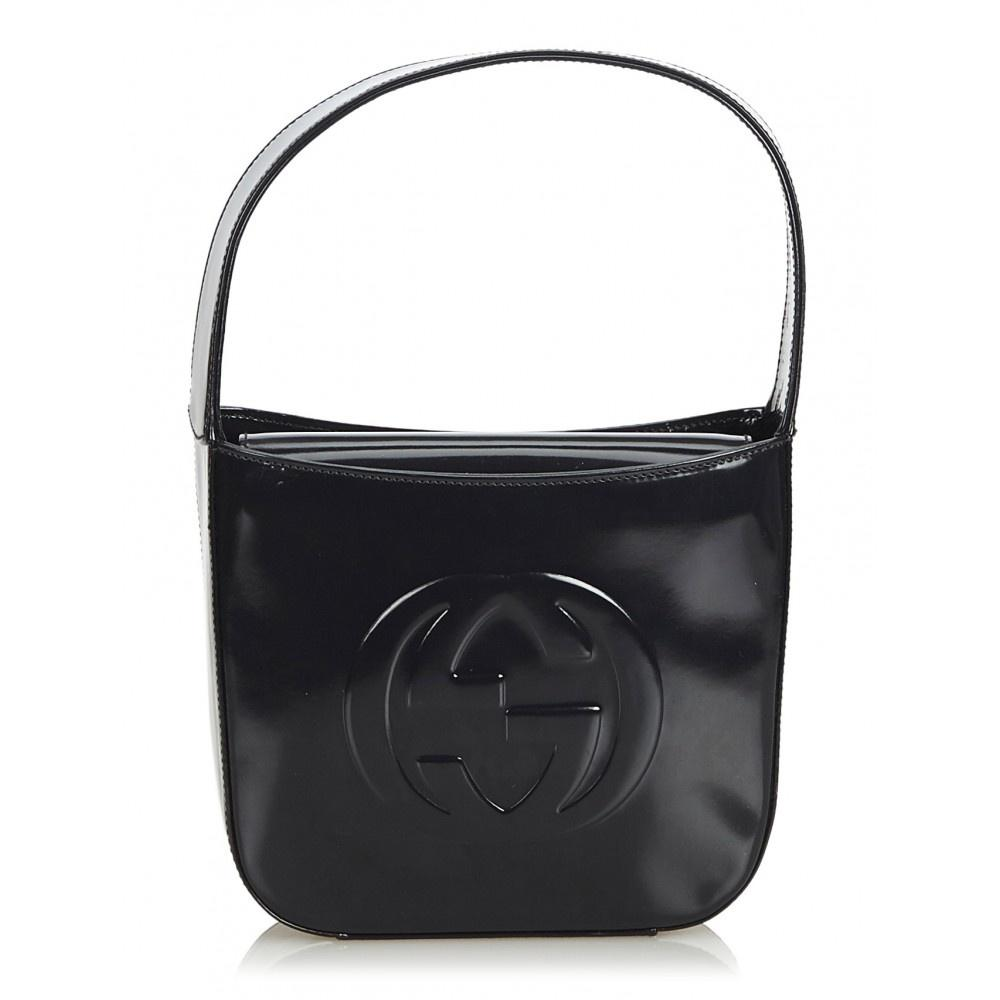GUCCI: (343, 570, 663, 841)
